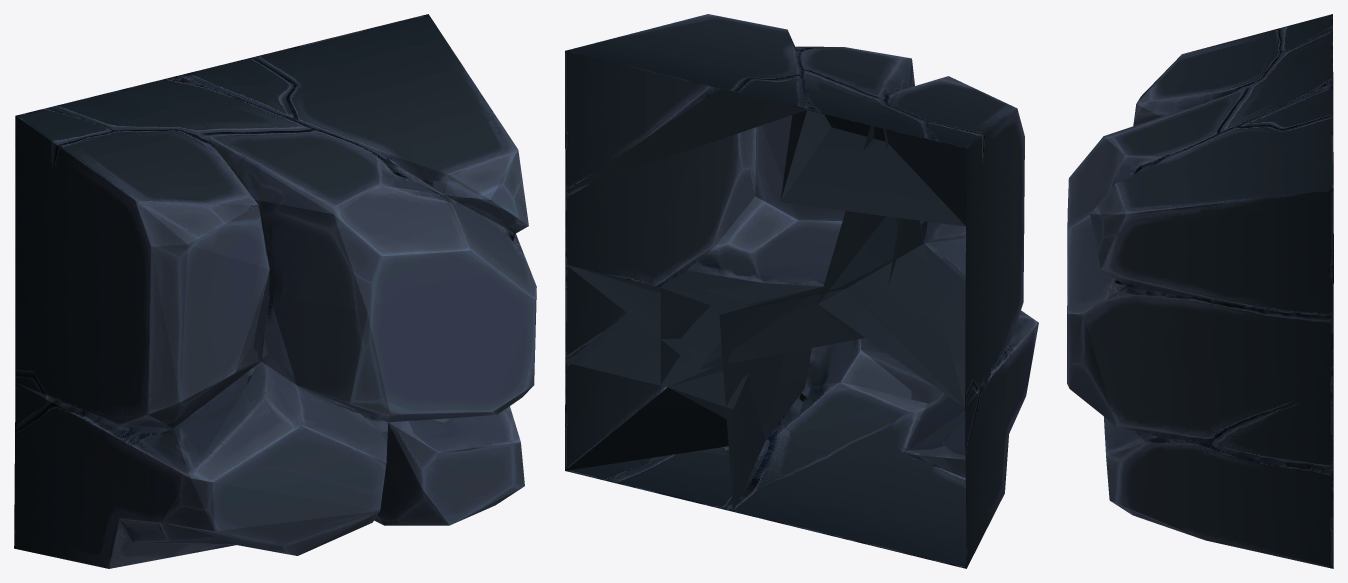
Rendered from trap_027_stone.glb.
3 renders of one model, left to right at view 1: azimuth 30°, elevation 25°; view 2: azimuth 150°, elevation 25°; view 3: azimuth 270°, elevation 25°, orthographic. The views are drawn at different scales.
Parts seen in each view (by area): view 1: polySurface5; view 2: polySurface5; view 3: polySurface5.
Boxes of the visible parts, x1,y1,x2,y2 form: polySurface5: (14,14,536,568); polySurface5: (565,14,1038,568); polySurface5: (1067,14,1333,568).
Size of the model in its own units: 0.9999 by 0.9995 by 0.6376.
1 material, 1 textured.
